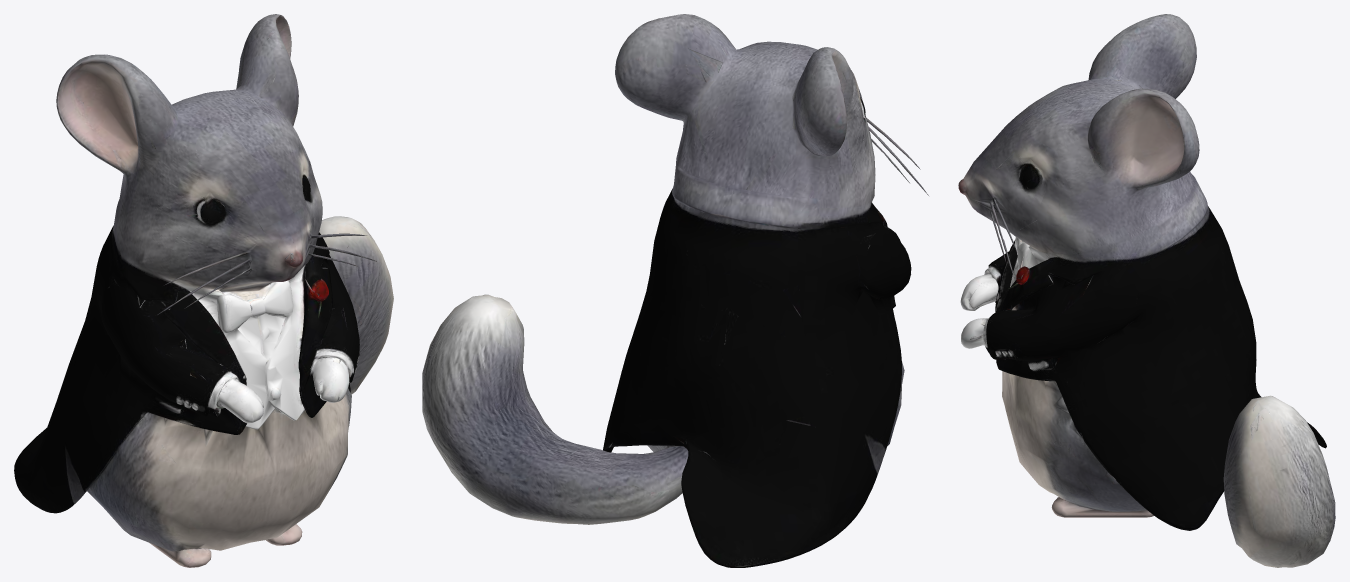
File: costume-wedding_chinchilla-gray.glb
3 views of the same model, side by side, from view 1: azimuth 30°, elevation 25°; view 2: azimuth 150°, elevation 25°; view 3: azimuth 270°, elevation 25° (orthographic). The views are drawn at different scales.
Visible parts, largest first — view 1: Mesh_0; view 2: Mesh_0; view 3: Mesh_0.
Part boxes in pixels (left/top/right/bottom): Mesh_0: left=14, top=14, right=393, bottom=567; Mesh_0: left=422, top=14, right=928, bottom=567; Mesh_0: left=958, top=14, right=1335, bottom=567.
Bounding box in the file's own units: 1.6 × 1.9 × 1.48.
1 material, 1 textured.
